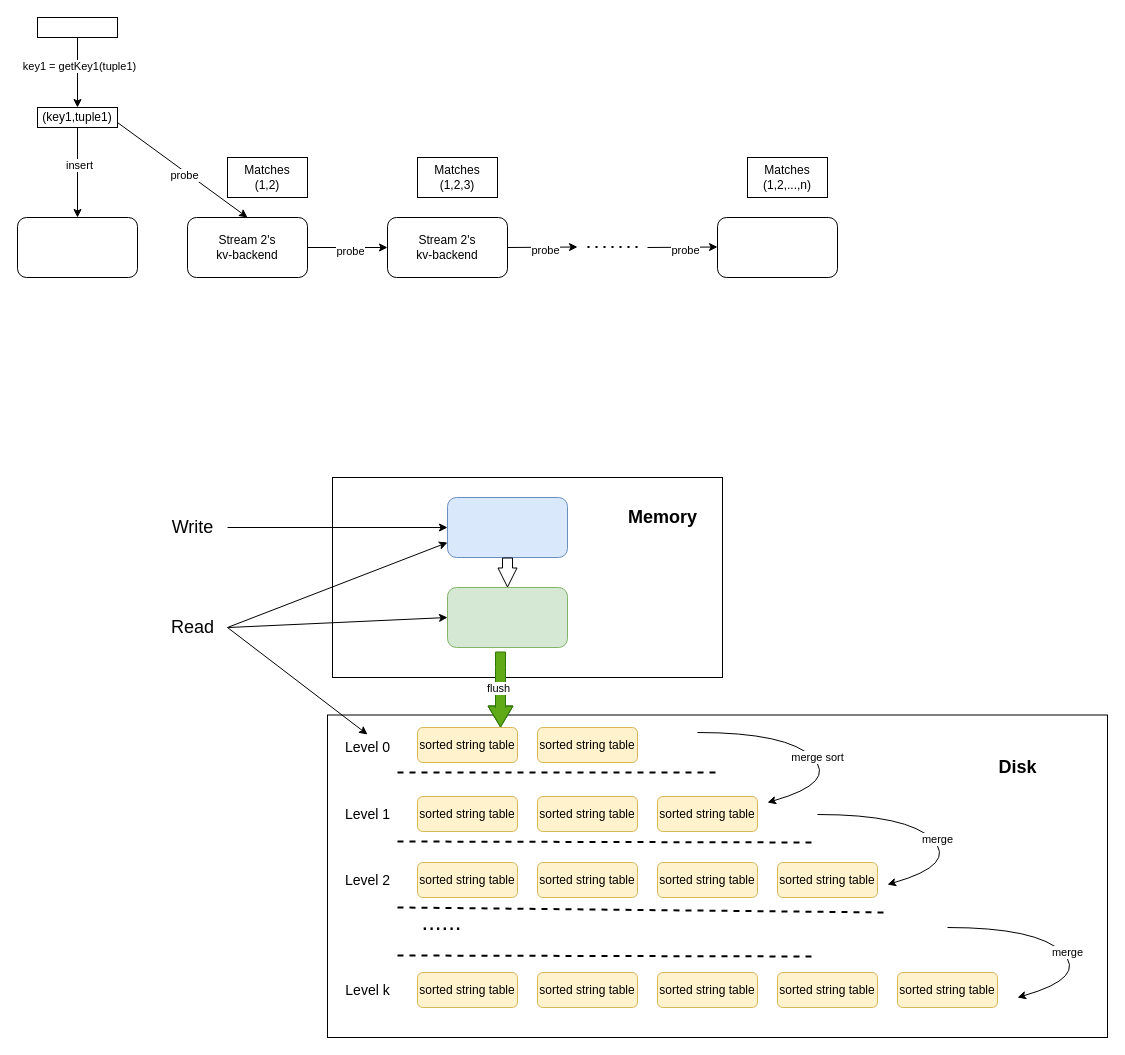
This 1125x1055 diagram has some shape labels left out. Each missing label, with the centre of its shape:
active skip list: the point at 507,527
readonly skip list: the point at 507,617
Stream 1's kv-backend: the point at 77,247
Stream n's kv-backend: the point at 777,247
tuple1: the point at 77,27
